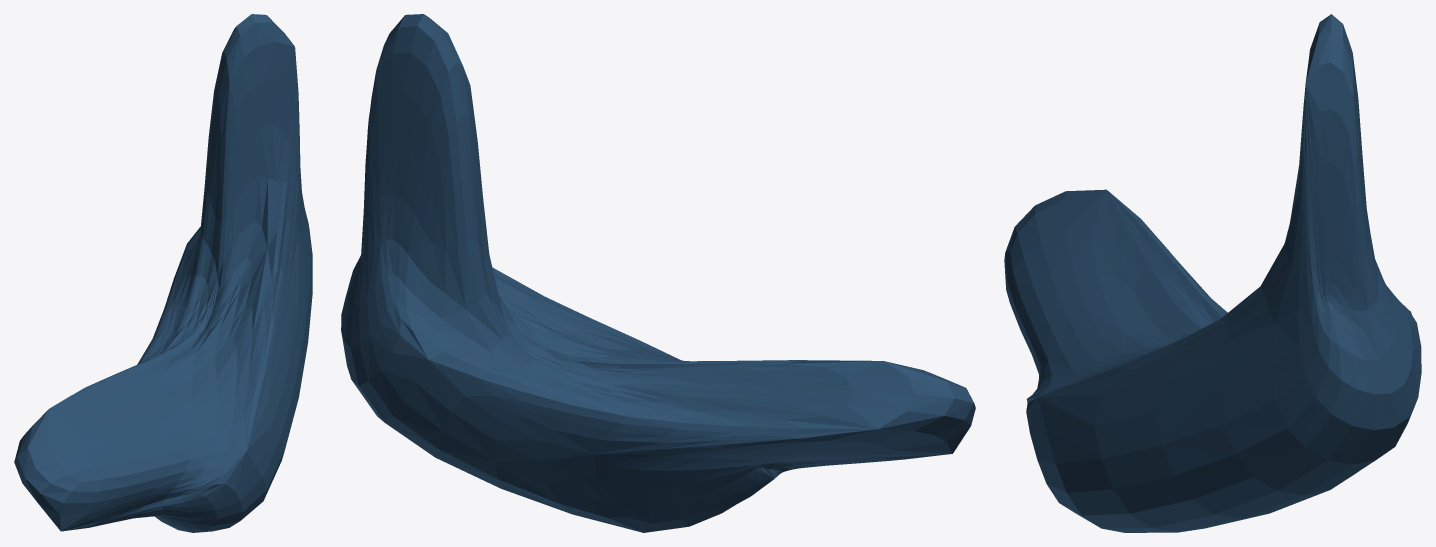
3 renders of one model, left to right at view 1: azimuth 30°, elevation 25°; view 2: azimuth 150°, elevation 25°; view 3: azimuth 270°, elevation 25°, orthographic. The views are drawn at different scales.
Parts seen in each view (by area): view 1: 459_Cube.1859; view 2: 459_Cube.1859; view 3: 459_Cube.1859.
Boxes of the visible parts, box(x1,y1,x2,y2) form: 459_Cube.1859: box(14, 14, 312, 532); 459_Cube.1859: box(341, 14, 975, 532); 459_Cube.1859: box(1004, 14, 1421, 532).
Size of the model in its own units: 14.96 by 15.62 by 10.02.
